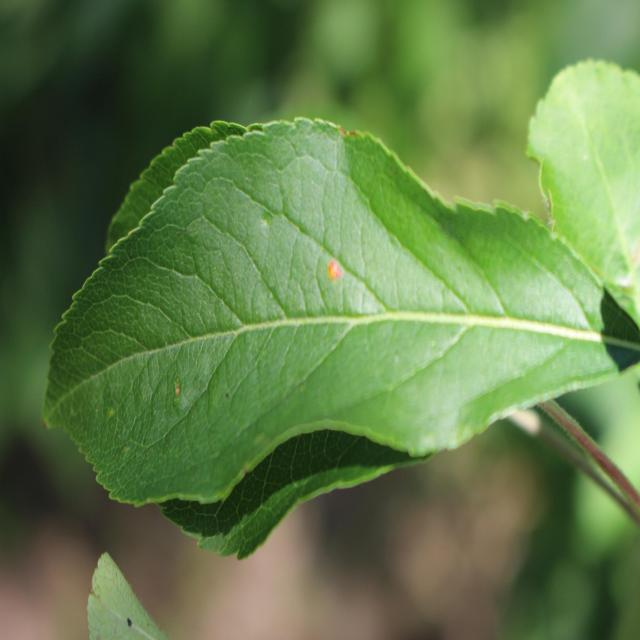Rust: (319, 247, 349, 285)
